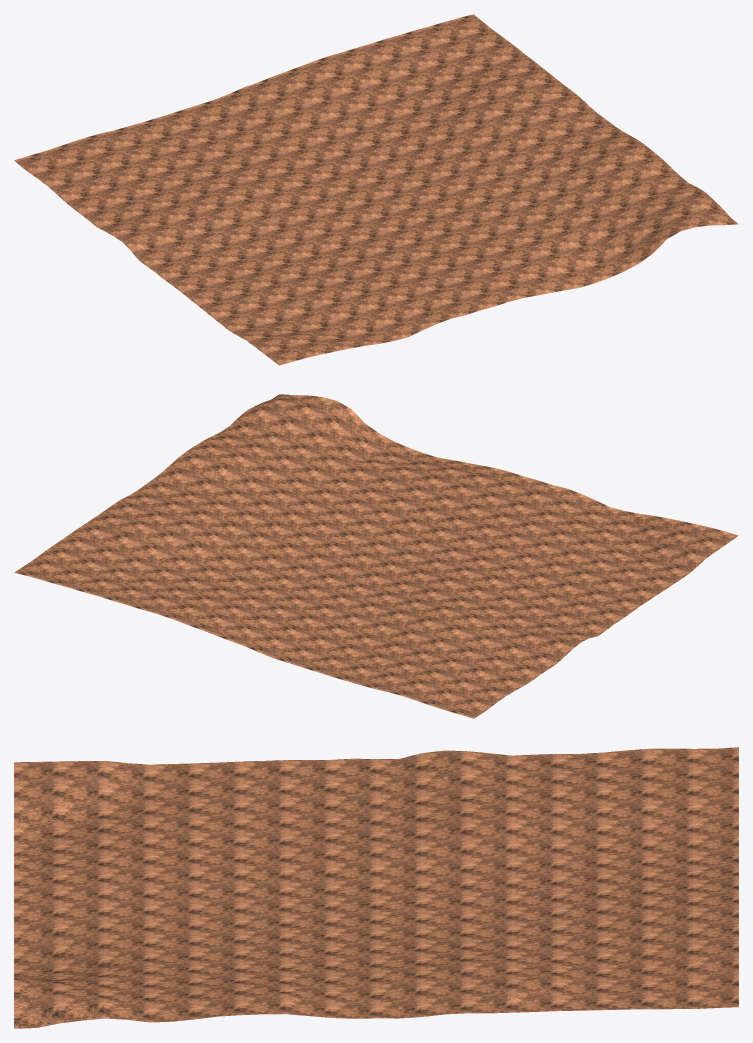
Rendered from terrain_07_07.dae.
3 renders of one model, top to bottom at view 1: azimuth 30°, elevation 25°; view 2: azimuth 150°, elevation 25°; view 3: azimuth 270°, elevation 25°, orthographic. The views are drawn at different scales.
Visible parts, largest first — view 1: terrain_07_07-node; view 2: terrain_07_07-node; view 3: terrain_07_07-node.
Part boxes in pixels (bbox=[...]): terrain_07_07-node: bbox=[14, 14, 738, 365]; terrain_07_07-node: bbox=[14, 394, 738, 718]; terrain_07_07-node: bbox=[14, 747, 738, 1028].
Bounding box in the file's own units: 128 × 128 × 12.85.
Materials: 1 (1 with a texture image).
